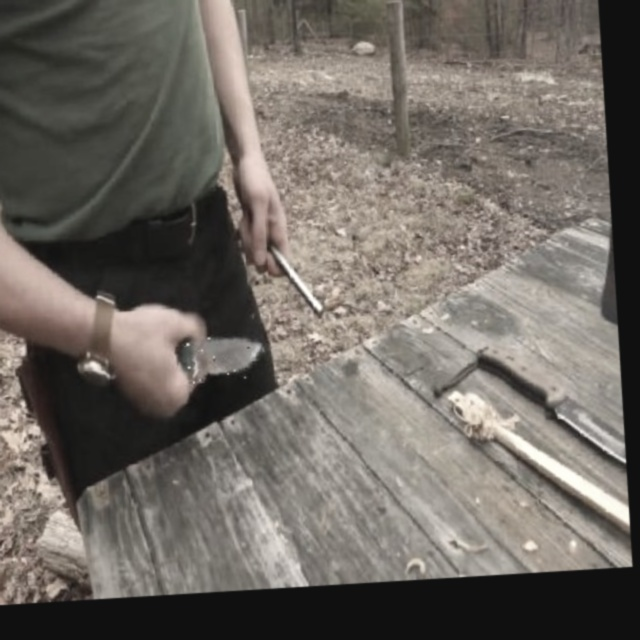Sharp-Object: (176, 333, 266, 383)
